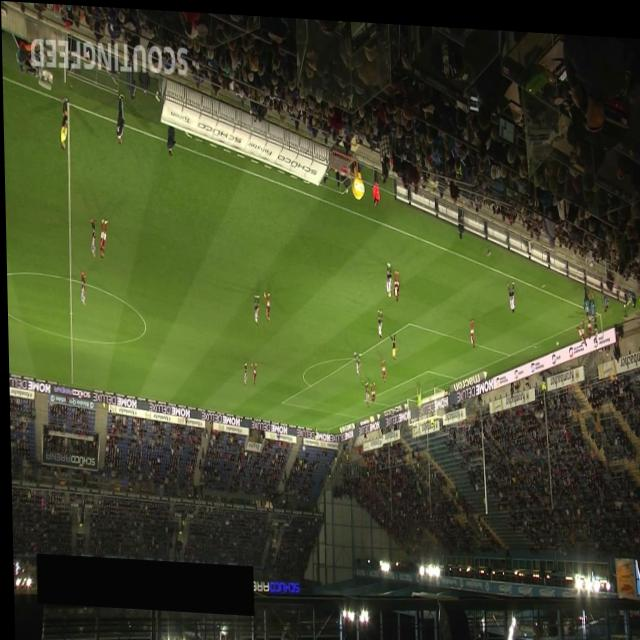goalkeeper: (413, 380, 420, 404)
player: (97, 216, 107, 257), (573, 311, 584, 338), (505, 274, 513, 307), (261, 287, 269, 319), (387, 328, 396, 356), (383, 256, 390, 292), (88, 216, 94, 256), (583, 303, 591, 332), (391, 264, 398, 296), (375, 303, 382, 334), (78, 271, 84, 306), (252, 291, 258, 322), (367, 375, 374, 400), (590, 307, 596, 335), (468, 313, 473, 342), (352, 347, 358, 371), (378, 354, 384, 377), (249, 359, 255, 381), (362, 378, 367, 401), (241, 359, 245, 383)
referee: (58, 95, 68, 149)
